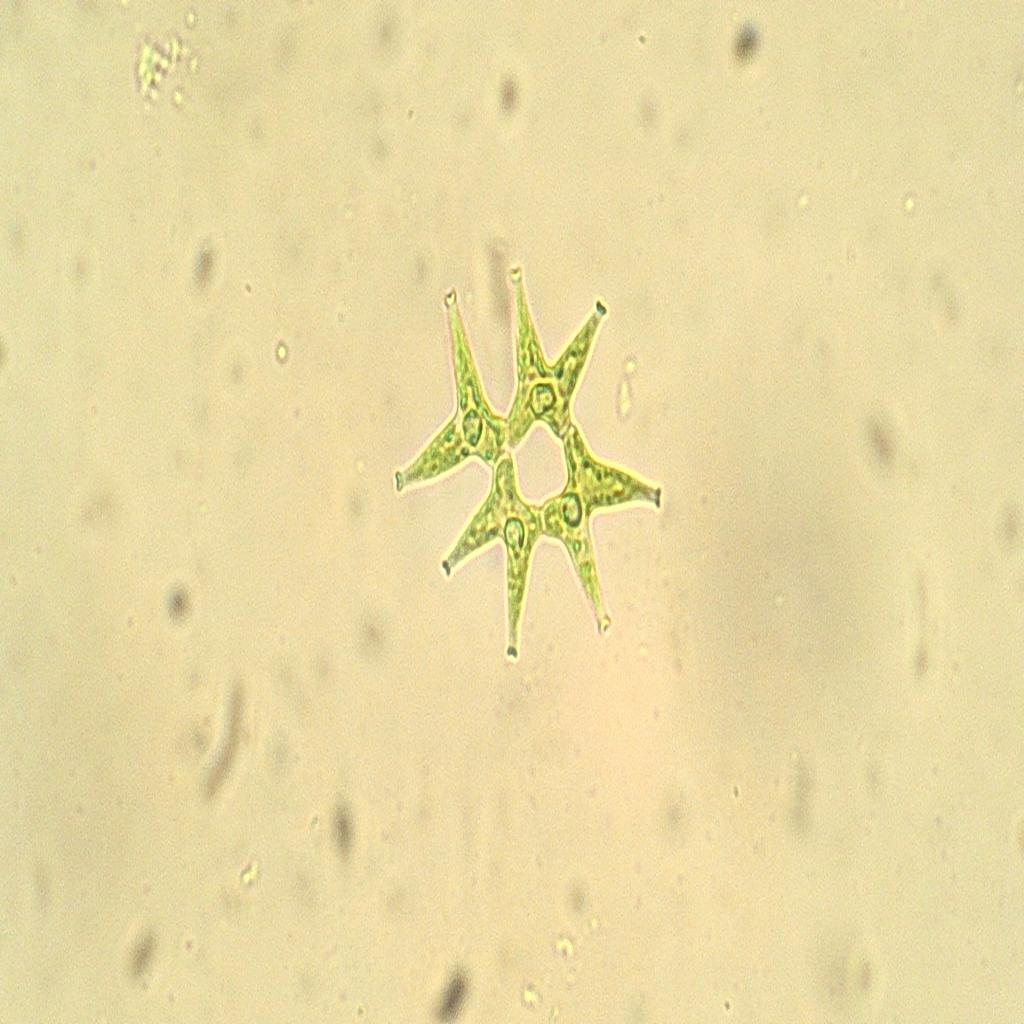Pediastrum_75FI: (381, 232, 677, 697)
